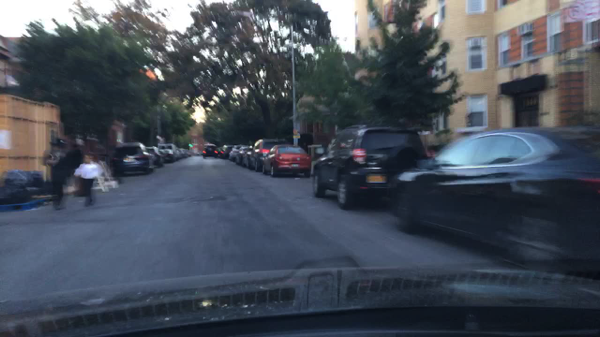car: (391, 125, 599, 268), (312, 124, 428, 211), (262, 144, 312, 178), (112, 143, 155, 177), (250, 138, 291, 173), (145, 145, 165, 168), (158, 143, 179, 163), (235, 145, 254, 164), (228, 145, 249, 161), (202, 143, 219, 158), (242, 149, 253, 167), (221, 145, 234, 160), (181, 148, 189, 157), (179, 149, 187, 158), (176, 148, 182, 158), (187, 149, 193, 157), (218, 147, 222, 157), (195, 152, 201, 156)
person: (41, 138, 75, 211), (74, 155, 105, 207), (68, 143, 83, 168)
traffic light: (188, 143, 194, 147)
traffic sign: (292, 131, 301, 140)
